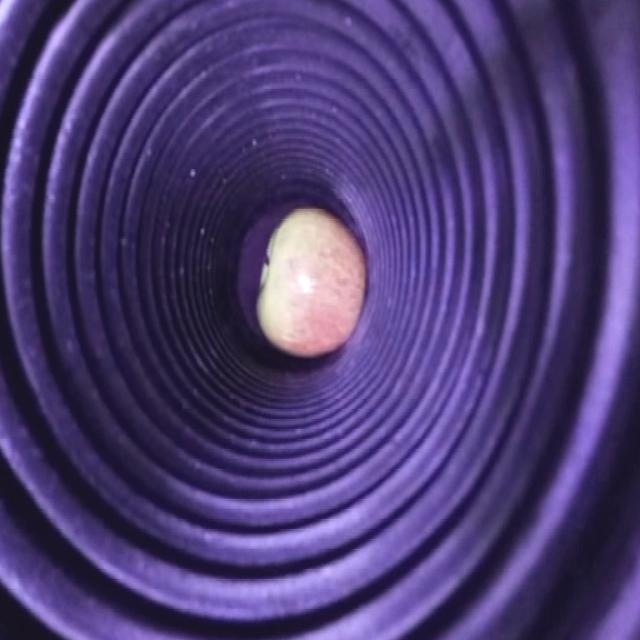obstacles: (254, 203, 367, 355)
